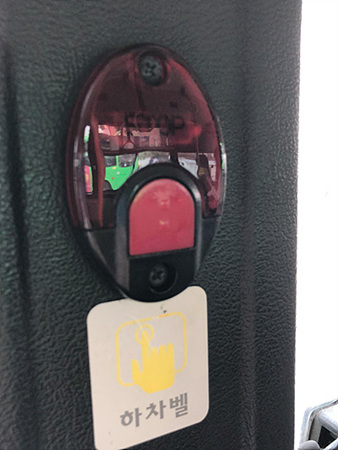bell: (61, 42, 229, 303)
